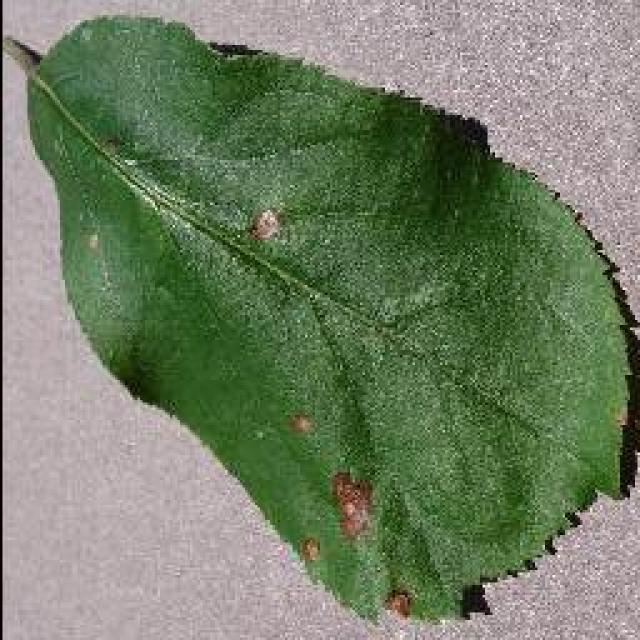Black_rot: (2, 12, 638, 630)
